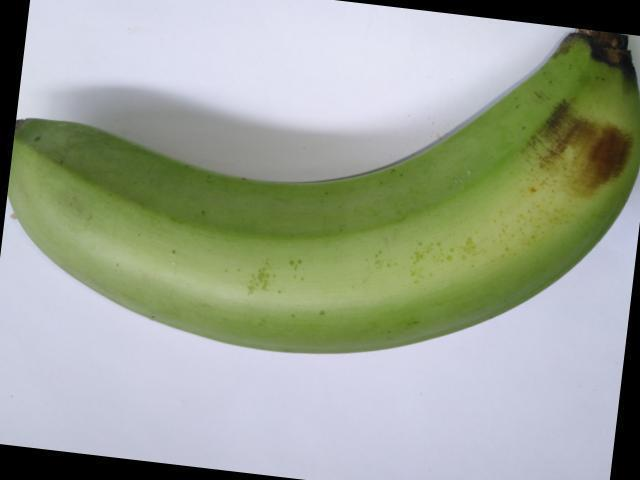freshunripe: (0, 16, 639, 390)
